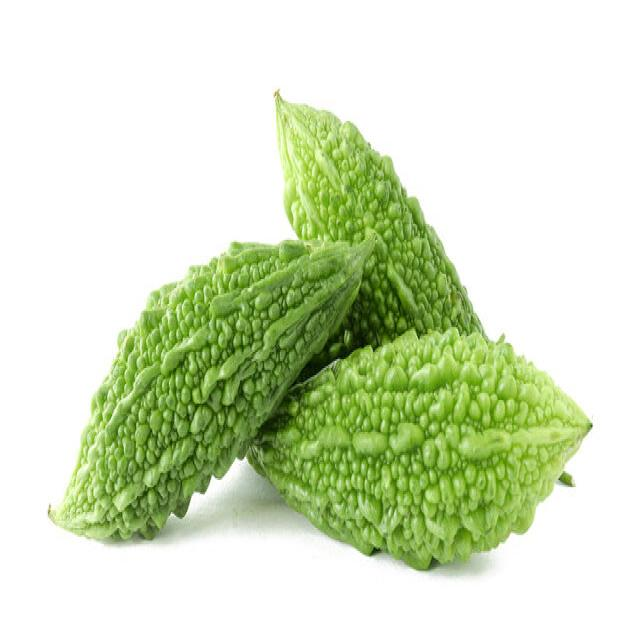Bitter_Gourd: (46, 228, 377, 542), (246, 324, 593, 570), (272, 85, 488, 358)
